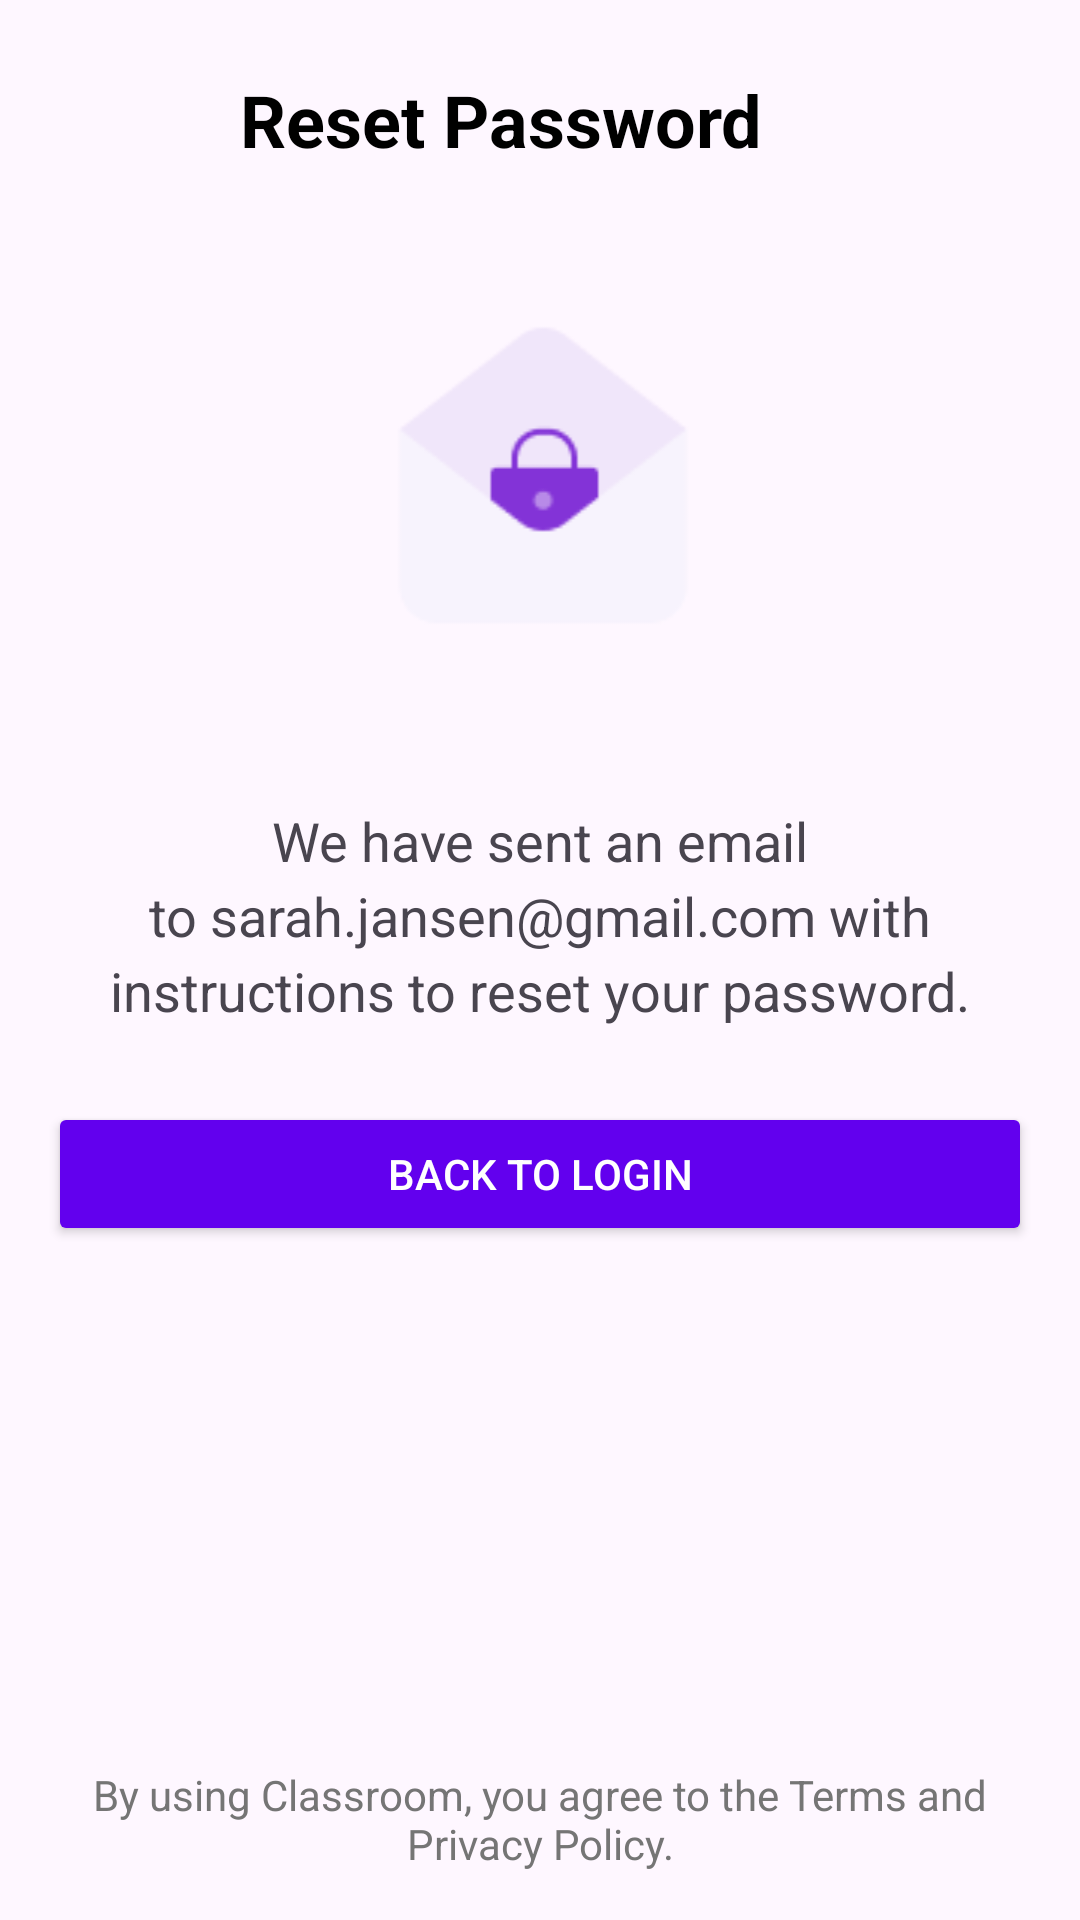

Where to tap for icons on this 1080*1920 app screen, as (x,y):
imagepassword: (544,479)
